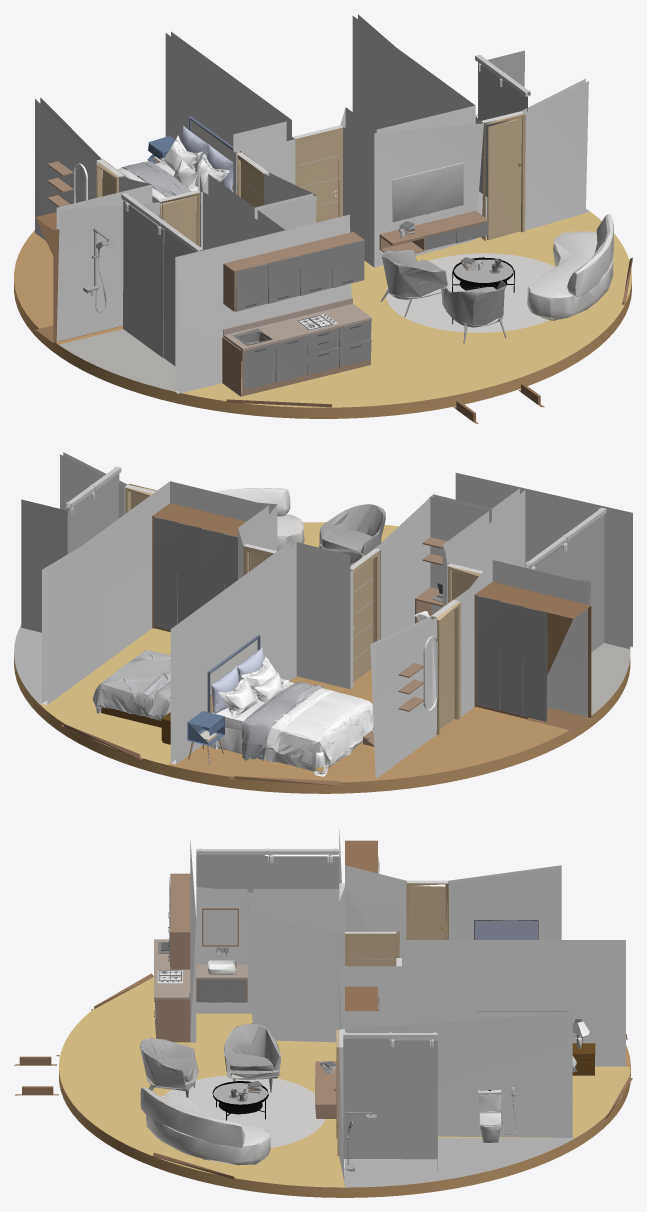
File: layout-a.glb
3 renders of one model, top to bottom at view 1: azimuth 30°, elevation 25°; view 2: azimuth 150°, elevation 25°; view 3: azimuth 270°, elevation 25°, orthographic. The views are drawn at different scales.
Visible parts, largest first — view 1: SKP Vertex Colors, [Ornate Tile 01], [Wood Floor Parquet], Material~1, 01 - Default1, Tapetah_Fabric_Samba2, tiles_glossy, layout-a, [Granite Brown]1, 淘宝-设计师Vicky的店-布纹-8, Charcoal Blue, [Aluminum]1 (+2 smaller); view 2: SKP Vertex Colors, [Wood Floor Parquet], 淘宝-设计师Vicky的店-布纹-8, [Ornate Tile 01], Charcoal Blue, _auto_5, FF708172-EE1C-49FB-ADE1-4F9D51396EDC, tiles_glossy, 01 - Default1, [Tile Grey], Material~1, [Aluminum]1 (+3 smaller); view 3: SKP Vertex Colors, [Ornate Tile 01], [Wood Floor Parquet], [Tile Grey], 01 - Default1, Material~1, Tapetah_Fabric_Samba2, Charcoal Blue, [Granite Brown]1, [Aluminum]1, layout-a, [Mirror 01] (+1 smaller).
Part boxes in pixels (x1,y1,x2,y2): SKP Vertex Colors: (35, 14, 632, 408); [Ornate Tile 01]: (175, 212, 631, 407); [Wood Floor Parquet]: (14, 230, 631, 418); Material~1: (47, 161, 488, 396); 01 - Default1: (527, 214, 613, 319); Tapetah_Fabric_Samba2: (386, 253, 555, 332); tiles_glossy: (59, 319, 175, 391); layout-a: (392, 162, 482, 271); [Granite Brown]1: (223, 298, 371, 351); 淘宝-设计师Vicky的店-布纹-8: (102, 135, 233, 218); Charcoal Blue: (35, 212, 544, 423); [Aluminum]1: (121, 54, 530, 252); SKP Vertex Colors: (21, 452, 632, 785); [Wood Floor Parquet]: (14, 655, 630, 793); 淘宝-设计师Vicky的店-布纹-8: (209, 656, 373, 776); [Ornate Tile 01]: (40, 522, 398, 764); Charcoal Blue: (152, 503, 591, 730); _auto_5: (93, 650, 170, 720); FF708172-EE1C-49FB-ADE1-4F9D51396EDC: (242, 681, 323, 760); tiles_glossy: (591, 643, 630, 714); 01 - Default1: (214, 488, 304, 550); [Tile Grey]: (14, 625, 41, 704); Material~1: (363, 537, 446, 746); [Aluminum]1: (66, 466, 606, 569); SKP Vertex Colors: (56, 829, 632, 1184); [Ornate Tile 01]: (59, 977, 630, 1187); [Wood Floor Parquet]: (59, 1045, 630, 1197); [Tile Grey]: (345, 1138, 574, 1187); 01 - Default1: (140, 1087, 270, 1165); Material~1: (156, 873, 336, 1118); Tapetah_Fabric_Samba2: (164, 1075, 325, 1147); Charcoal Blue: (14, 840, 377, 1095); [Granite Brown]1: (154, 939, 247, 999); [Aluminum]1: (196, 848, 437, 1047); layout-a: (243, 920, 537, 1093); [Mirror 01]: (203, 910, 237, 945).
Bounding box in the file's own units: 10.04 × 2.83 × 10.82.
